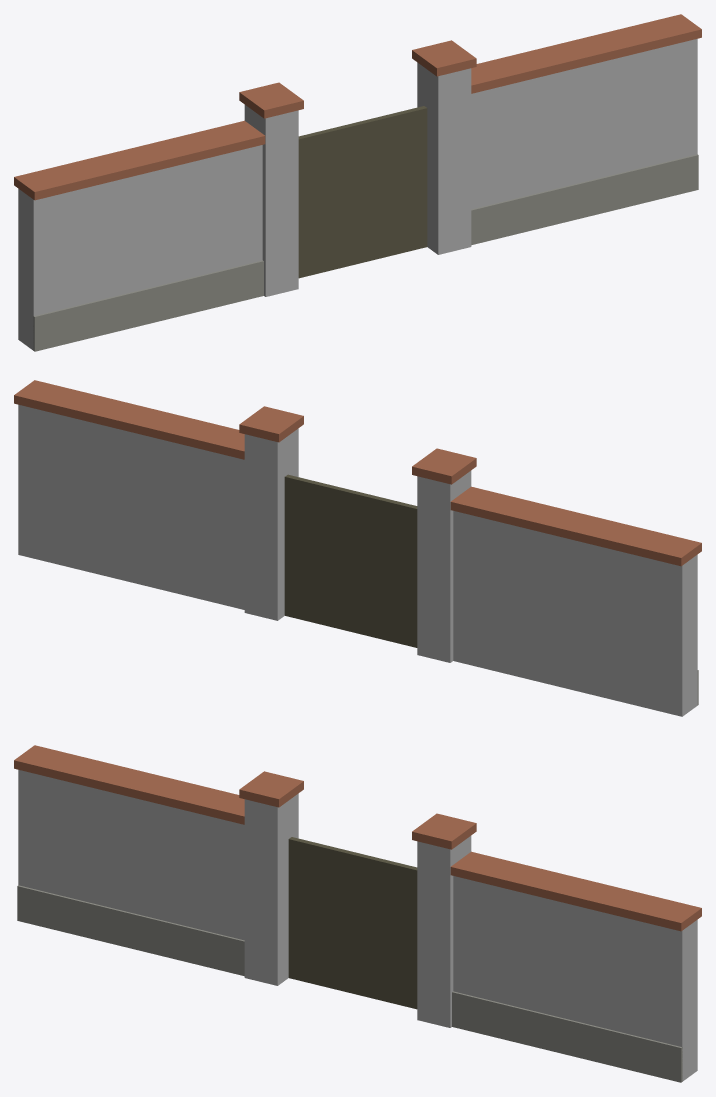
File: SM_Tapia_v2_Porton_LOD0.fbx
3 renders of one model, top to bottom at view 1: azimuth 30°, elevation 25°; view 2: azimuth 150°, elevation 25°; view 3: azimuth 330°, elevation 25°, orthographic.
Visible parts, largest first — view 1: SM_bloques.viveres_nules_v7_LOD0; view 2: SM_bloques.viveres_nules_v7_LOD0; view 3: SM_bloques.viveres_nules_v7_LOD0.
Boxes of the visible parts, left/top/right/bottom form: SM_bloques.viveres_nules_v7_LOD0: left=14, top=14, right=701, bottom=351; SM_bloques.viveres_nules_v7_LOD0: left=14, top=380, right=701, bottom=716; SM_bloques.viveres_nules_v7_LOD0: left=14, top=745, right=701, bottom=1082.
Bounding box in the file's own units: 10.05 × 2.72 × 0.65.
